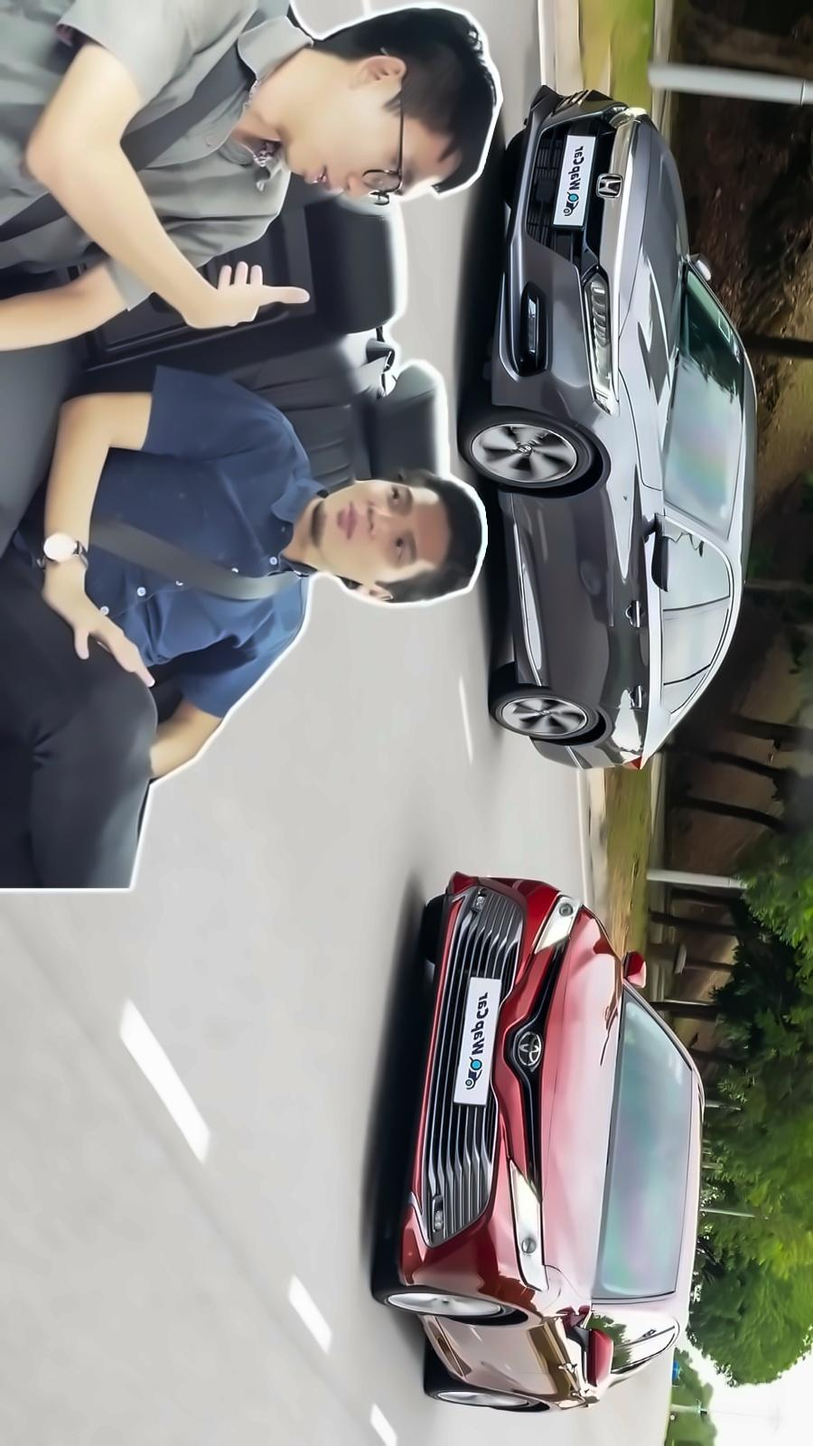Car hood: (538, 894, 630, 1321), (615, 105, 685, 497)
Fender - -F-L-: (483, 377, 670, 524)
Front bumper: (396, 867, 547, 1309), (480, 71, 617, 422)
Headlight - -L-: (577, 260, 620, 422), (508, 1154, 549, 1295)
Headlight - -R-: (531, 893, 582, 954)
Passenger-s door - -F-L-: (488, 500, 744, 629), (413, 1306, 686, 1376)
Passenger-s door - -R-L-: (501, 598, 774, 708)
Rear bumper: (510, 682, 709, 760), (525, 738, 585, 774)
Side bumper - -L-: (485, 488, 566, 694), (410, 1309, 479, 1392)
Side mirror - -L-: (564, 1318, 616, 1388), (642, 507, 680, 595)
Side mirror - -R-: (622, 948, 650, 996)
